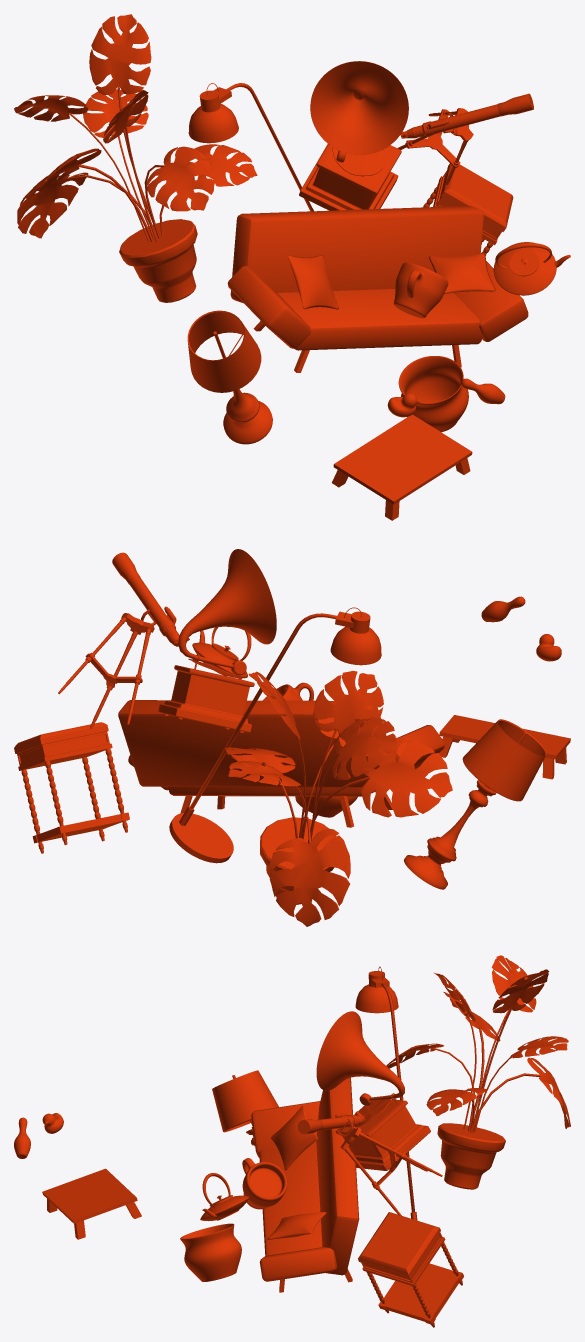
File: Chroma Empty Models Whole.fbx
3 renders of one model, top to bottom at view 1: azimuth 30°, elevation 25°; view 2: azimuth 150°, elevation 25°; view 3: azimuth 270°, elevation 25°, orthographic. The views are drawn at different scales.
Parts seen in each view (by area): view 1: Sofa_p1, Plant_p1, Gramophone, Japanese_Table, Lamp_1, Plant_p2, Sofa_p2, Vase, Table_Retro, Telescope, Teapot, Lamp_2 (+2 smaller); view 2: Plant_p1, Sofa_p1, Gramophone, Lamp_1, Table_Retro, Lamp_2, Telescope, Japanese_Table, Plant_p2, Teapot, Vase, Bowling_Pin (+2 smaller); view 3: Sofa_p1, Gramophone, Plant_p1, Table_Retro, Japanese_Table, Plant_p2, Vase, Lamp_1, Sofa_p2, Telescope, Lamp_2, Mug (+2 smaller).
Boxes of the visible parts, x1=… form: Sofa_p1: x1=227, y1=205, x2=528, y2=372; Plant_p1: x1=14, y1=14, x2=257, y2=241; Gramophone: x1=299, y1=61, x2=408, y2=210; Japanese_Table: x1=332, y1=414, x2=472, y2=520; Lamp_1: x1=187, y1=310, x2=272, y2=444; Plant_p2: x1=119, y1=219, x2=197, y2=302; Sofa_p2: x1=287, y1=253, x2=495, y2=309; Vase: x1=398, y1=356, x2=468, y2=432; Table_Retro: x1=423, y1=163, x2=513, y2=255; Telescope: x1=397, y1=93, x2=533, y2=184; Teapot: x1=493, y1=242, x2=570, y2=295; Lamp_2: x1=188, y1=83, x2=313, y2=211; Plant_p1: x1=225, y1=670, x2=452, y2=926; Sofa_p1: x1=118, y1=700, x2=445, y2=827; Gramophone: x1=158, y1=549, x2=276, y2=733; Lamp_1: x1=404, y1=719, x2=546, y2=889; Table_Retro: x1=14, y1=722, x2=129, y2=853; Lamp_2: x1=169, y1=607, x2=381, y2=863; Telescope: x1=58, y1=552, x2=189, y2=729; Japanese_Table: x1=439, y1=715, x2=570, y2=779; Plant_p2: x1=260, y1=817, x2=336, y2=904; Teapot: x1=192, y1=627, x2=251, y2=678; Vase: x1=295, y1=796, x2=357, y2=817; Bowling_Pin: x1=481, y1=596, x2=525, y2=622; Sofa_p1: x1=251, y1=1077, x2=359, y2=1292; Gramophone: x1=316, y1=1011, x2=430, y2=1170; Plant_p1: x1=386, y1=955, x2=570, y2=1132; Table_Retro: x1=358, y1=1212, x2=463, y2=1327; Japanese_Table: x1=42, y1=1168, x2=141, y2=1239; Plant_p2: x1=437, y1=1123, x2=505, y2=1189; Vase: x1=180, y1=1223, x2=241, y2=1281; Lamp_1: x1=212, y1=1070, x2=278, y2=1146; Sofa_p2: x1=267, y1=1106, x2=326, y2=1239; Telescope: x1=297, y1=1111, x2=442, y2=1215; Lamp_2: x1=355, y1=966, x2=417, y2=1220; Mug: x1=242, y1=1158, x2=287, y2=1209.
Size of the model in its own units: 1535 by 1015 by 1890.
